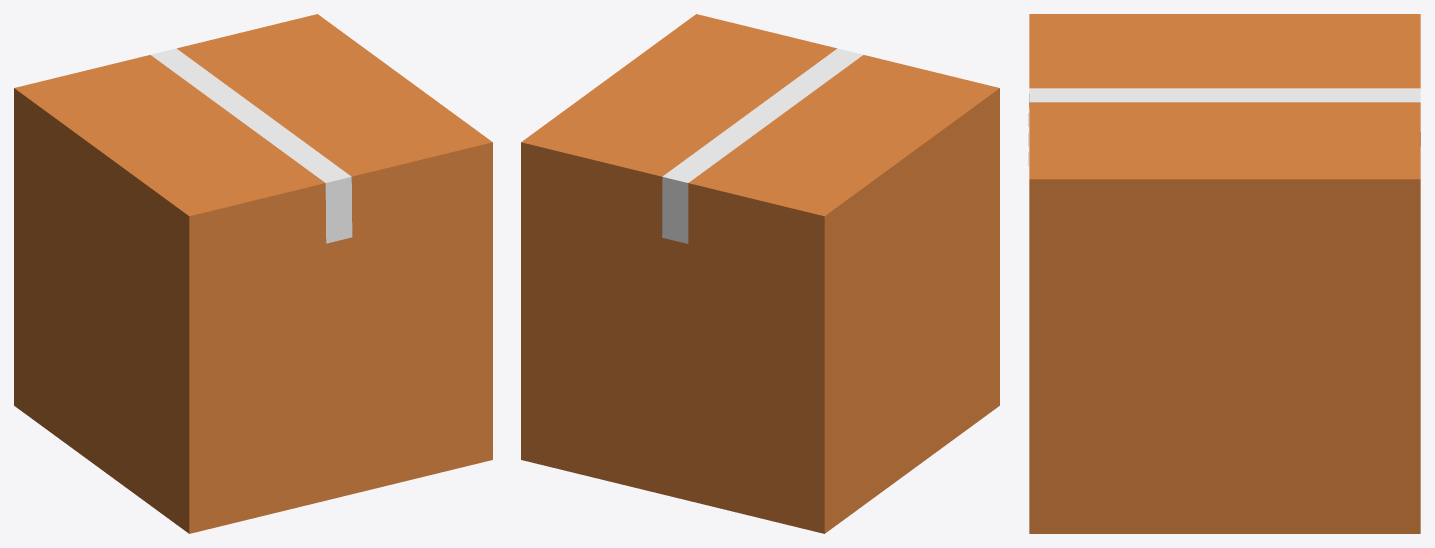
Rendered from caja.glb.
3 renders of one model, left to right at view 1: azimuth 30°, elevation 25°; view 2: azimuth 150°, elevation 25°; view 3: azimuth 270°, elevation 25°, orthographic. The views are drawn at different scales.
Parts seen in each view (by area): view 1: Cubo, Plano; view 2: Cubo, Plano; view 3: Cubo, Plano.
Boxes of the visible parts, x1,y1,x2,y2 form: Cubo: [14, 14, 492, 533]; Plano: [150, 48, 352, 243]; Cubo: [521, 14, 999, 533]; Plano: [662, 48, 863, 243]; Cubo: [1029, 14, 1420, 533]; Plano: [1028, 88, 1420, 165].
Size of the model in its own units: 0.3307 by 0.3307 by 0.332.
